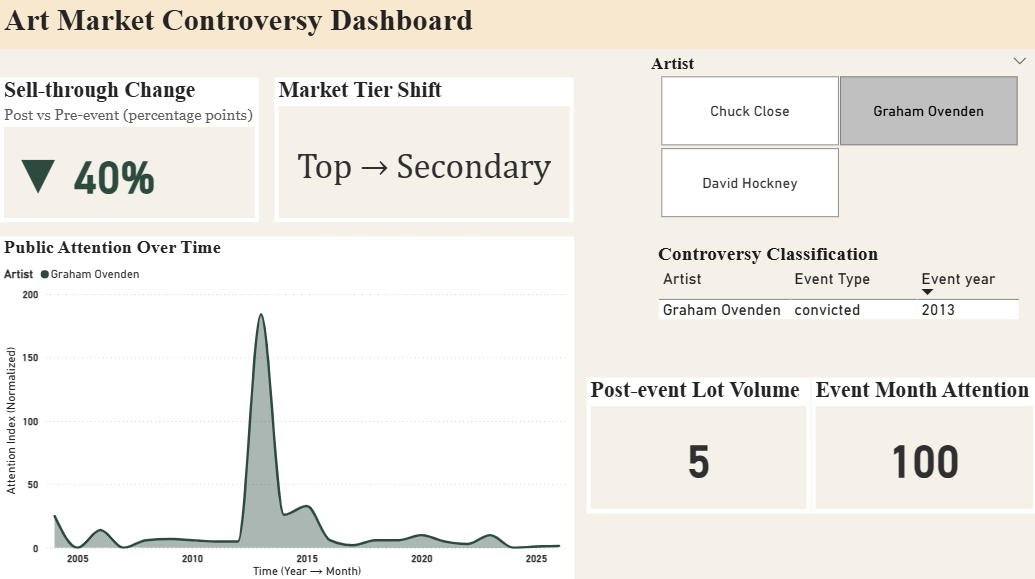

Layout of this report page (visuals, bound fields, positions):
{"tool":"powerbi","page":{"name":"Executive Overview","canvas":[1280,720],"ordinal":0},"visuals":[{"type":"cardVisual","title":"Sell-through Change","fields":{"Data":["dim_artist.Delta Arrow"]},"box":[0,98.2,319.6,178.6],"z":0},{"type":"cardVisual","title":"Event Month Attention","fields":{"Data":["vw_attention_market_monthly.Event Month Attention"]},"box":[1001.8,467.9,278.6,167.9],"z":1000},{"type":"cardVisual","title":"Post-event Lot Volume","fields":{"Data":["vw_auction_enriched.Post-event Lot Count"]},"box":[725,467.9,276.8,167.9],"z":2000},{"type":"cardVisual","title":"Market Tier Shift","fields":{"Data":["dim_artist.Market Tier Shift (Label)"]},"box":[339.3,98.2,369.6,178.6],"z":3000},{"type":"textbox","box":[0,0,1280.4,62.5],"z":4000},{"type":"lineChart","title":"Public Attention Over Time","fields":{"Y":["Sum(vw_attention_market_monthly.attention_index)"],"Category":["vw_attention_market_monthly.month_start.Variation.Date Hierarchy.Year","vw_attention_market_monthly.month_start.Variation.Date Hierarchy.Quarter","vw_attention_market_monthly.month_start.Variation.Date Hierarchy.Month"],"Series":["dim_artist.artist_name"]},"box":[0,294.6,708.9,425],"z":5000},{"type":"slicer","fields":{"Values":["dim_artist.artist_name"]},"box":[791.1,62.5,489.3,214.3],"z":6000},{"type":"tableEx","title":"Controversy Classification","fields":{"Values":["dim_artist.artist_name","dim_artist.group_type","dim_artist.controversy_year"]},"box":[807.1,301.8,457.1,117.9],"z":7000}]}

Visuals, with their boxes in screenshot pixels (x1, y1, x2, y2), scaled from the page's 1280x720 canvas onto the 1035x579 screenshot:
"Sell-through Change" cardVisual: {"x1": 0, "y1": 79, "x2": 258, "y2": 223}
"Event Month Attention" cardVisual: {"x1": 810, "y1": 376, "x2": 1034, "y2": 511}
"Post-event Lot Volume" cardVisual: {"x1": 586, "y1": 376, "x2": 810, "y2": 511}
"Market Tier Shift" cardVisual: {"x1": 274, "y1": 79, "x2": 573, "y2": 223}
textbox: {"x1": 0, "y1": 0, "x2": 1034, "y2": 50}
"Public Attention Over Time" lineChart: {"x1": 0, "y1": 237, "x2": 573, "y2": 578}
slicer - dim_artist.artist_name: {"x1": 640, "y1": 50, "x2": 1034, "y2": 223}
"Controversy Classification" tableEx: {"x1": 653, "y1": 243, "x2": 1022, "y2": 338}
